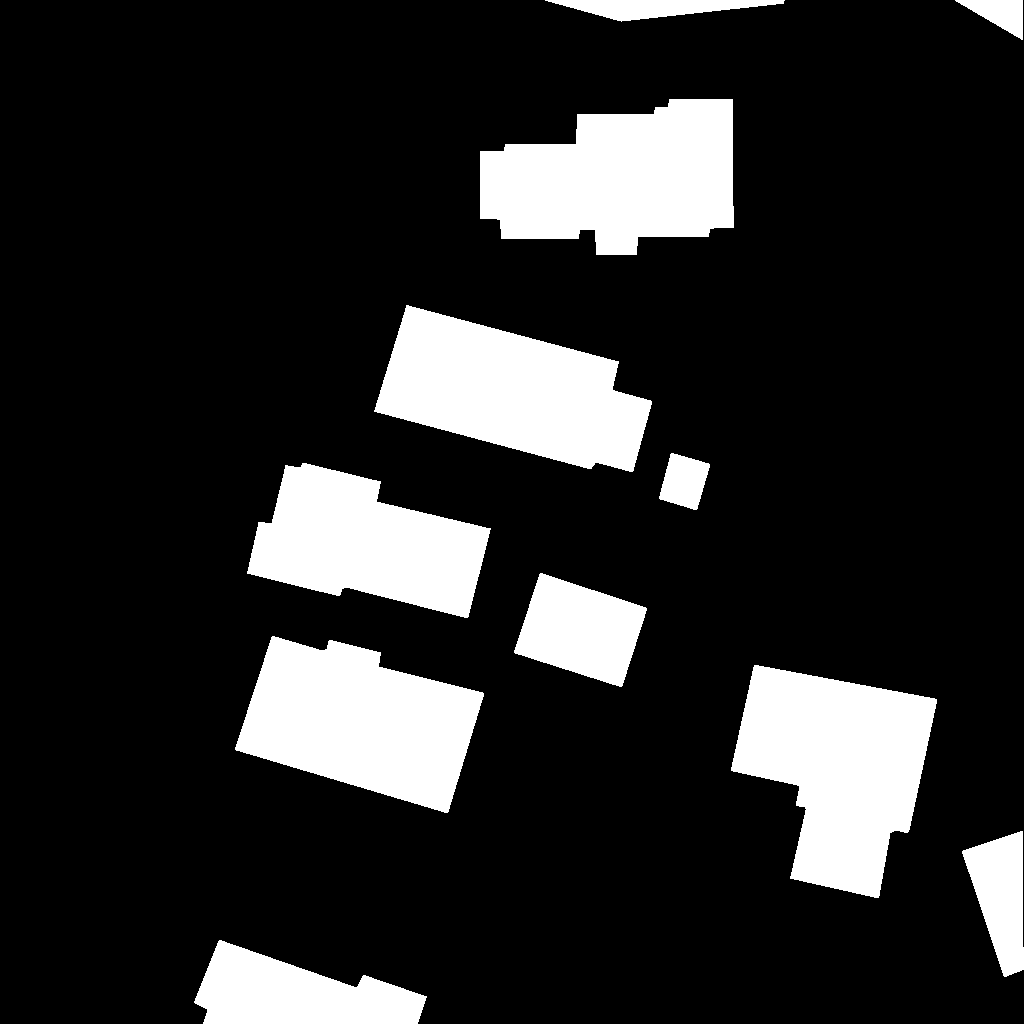building: (731, 665, 938, 899), (374, 305, 653, 473), (235, 636, 485, 814), (480, 99, 734, 255), (247, 463, 492, 619), (194, 940, 428, 1024), (514, 573, 648, 688), (962, 831, 1024, 978), (543, 0, 785, 22), (659, 453, 711, 511), (954, 0, 1024, 41)
